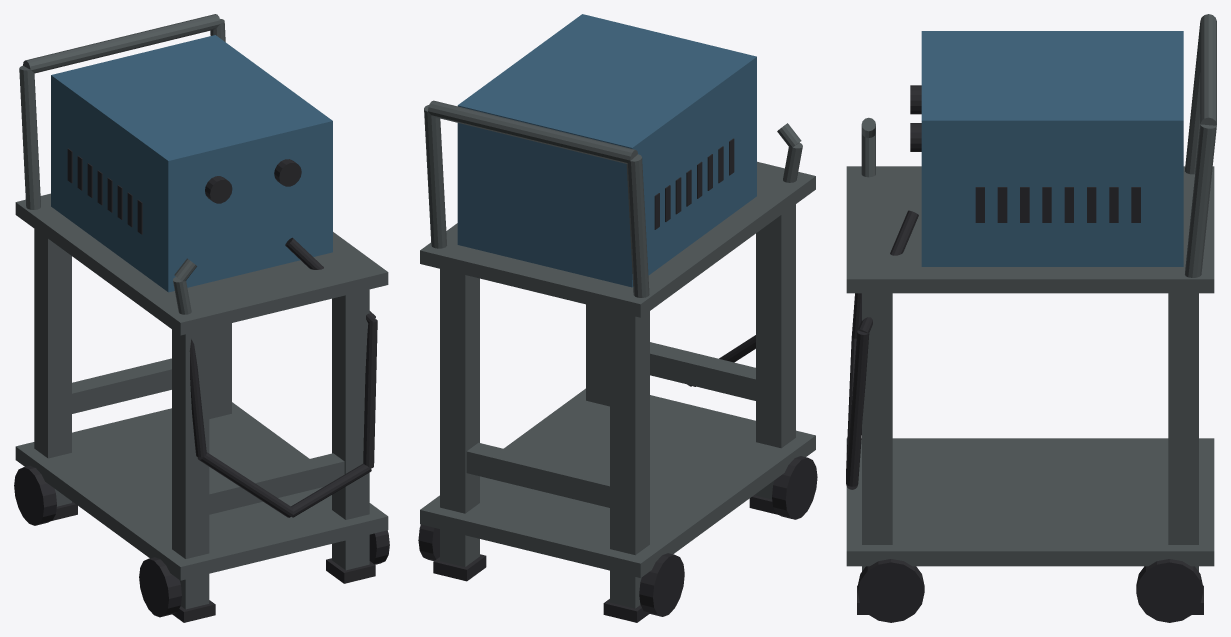
The model's file is SHOP_WelderCart.glb.
3 renders of one model, left to right at view 1: azimuth 30°, elevation 25°; view 2: azimuth 150°, elevation 25°; view 3: azimuth 270°, elevation 25°, orthographic. The views are drawn at different scales.
Parts seen in each view (by area): view 1: WelderCase, Frame, LowerTray, MachineTray, Stretchers, TorchLead, PushHandle, Wheels, Feet, VentSlots, ControlKnobs, Torch; view 2: WelderCase, Frame, LowerTray, MachineTray, Stretchers, PushHandle, Wheels, Feet, VentSlots, Torch; view 3: WelderCase, LowerTray, MachineTray, Frame, Wheels, PushHandle, TorchLead, VentSlots, Torch, ControlKnobs.
Boxes of the visible parts, <box> form: WelderCase: <box>51,35,332,292</box>; Frame: <box>34,229,369,609</box>; LowerTray: <box>15,402,388,580</box>; MachineTray: <box>15,193,388,335</box>; Stretchers: <box>72,358,344,514</box>; TorchLead: <box>189,237,377,517</box>; PushHandle: <box>19,14,225,209</box>; Wheels: <box>14,465,389,617</box>; Feet: <box>52,501,375,622</box>; VentSlots: <box>67,148,142,234</box>; ControlKnobs: <box>205,159,301,203</box>; Torch: <box>173,258,196,314</box>; WelderCase: <box>457,14,756,287</box>; Frame: <box>440,204,795,608</box>; LowerTray: <box>420,388,815,577</box>; MachineTray: <box>420,161,815,317</box>; Stretchers: <box>466,342,755,507</box>; PushHandle: <box>424,100,649,297</box>; Wheels: <box>418,456,817,616</box>; Feet: <box>433,494,776,622</box>; VentSlots: <box>654,138,734,229</box>; Torch: <box>777,123,802,182</box>; WelderCase: <box>921,31,1183,266</box>; LowerTray: <box>846,438,1214,566</box>; MachineTray: <box>846,166,1214,293</box>; Frame: <box>862,293,1198,571</box>; Wheels: <box>857,559,1202,622</box>; PushHandle: <box>1185,14,1216,277</box>; TorchLead: <box>846,210,918,489</box>; VentSlots: <box>975,187,1140,222</box>; Torch: <box>861,117,875,177</box>; ControlKnobs: <box>910,85,921,151</box>.
Bounding box in the file's own units: 0.51 × 0.985 × 0.666.
